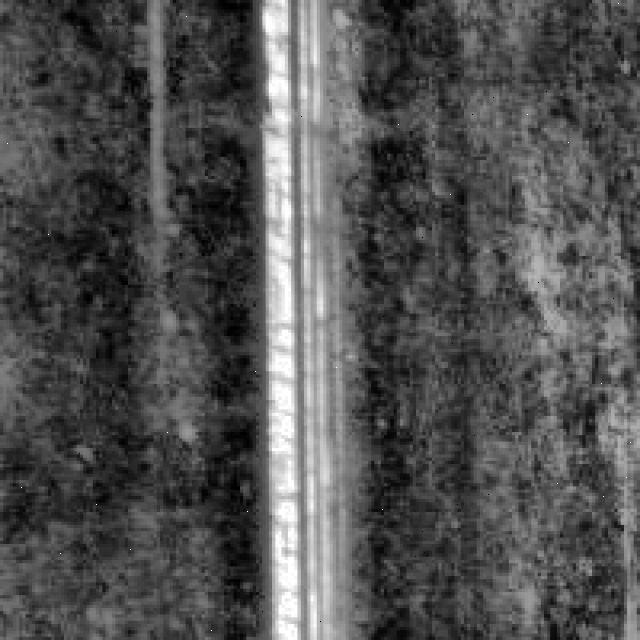Inclusion: (259, 0, 346, 634)
